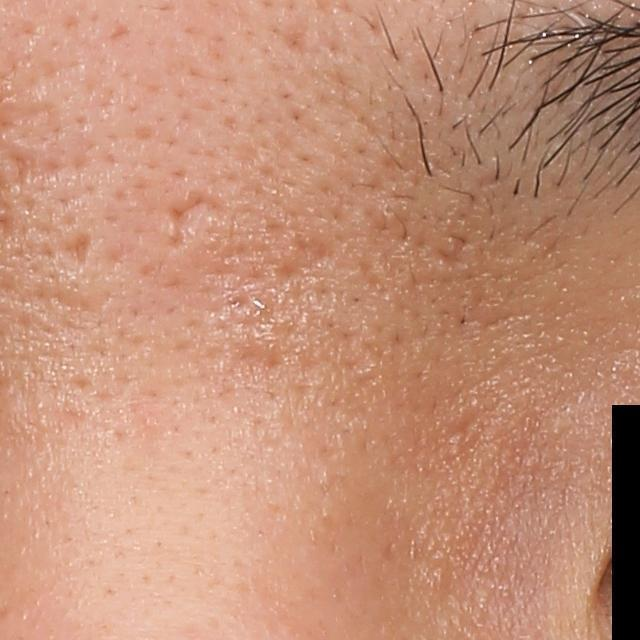atrophic_scar: (163, 192, 213, 251), (281, 233, 331, 283), (229, 338, 287, 380), (59, 223, 96, 270), (432, 230, 464, 262)
